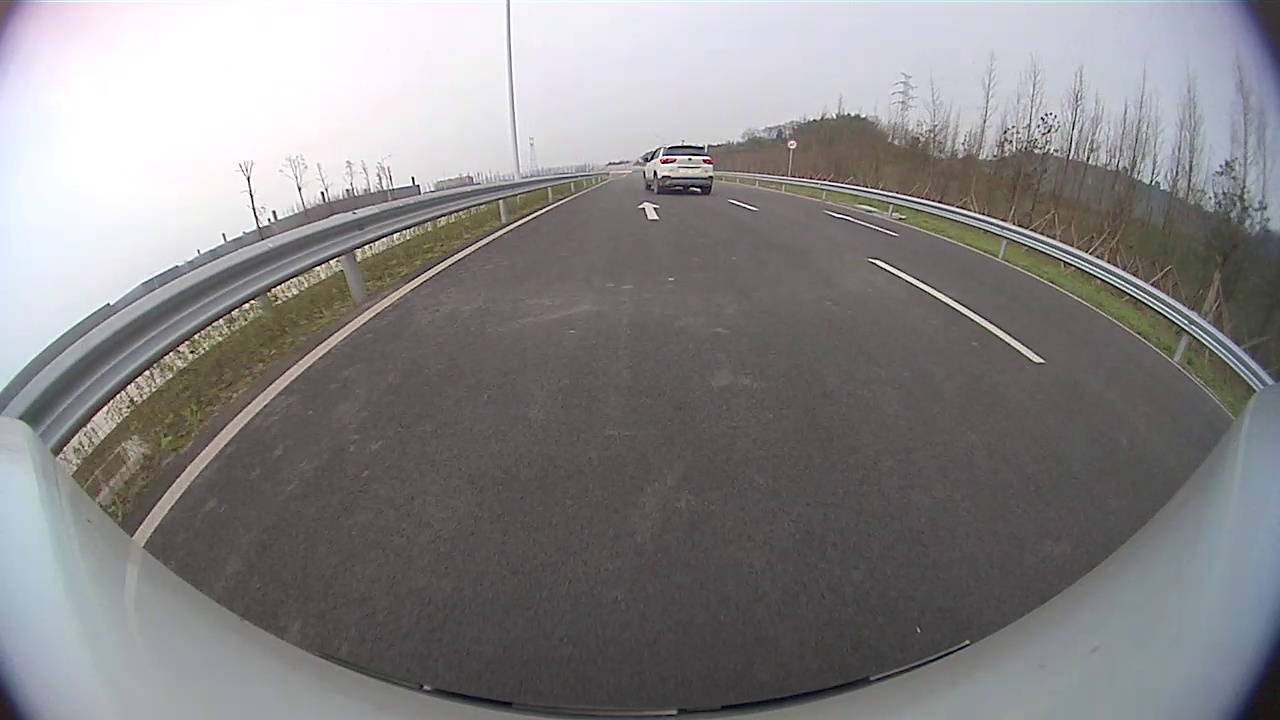car: (642, 144, 714, 195)
rear: (652, 176, 659, 193)
